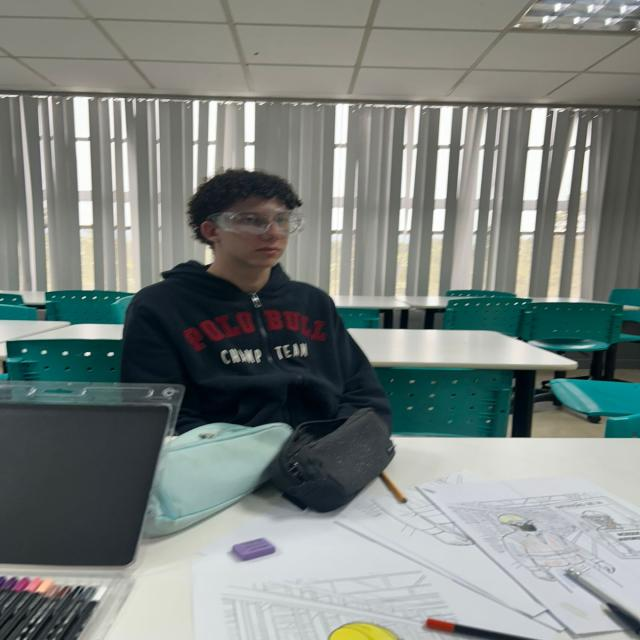oculos-epi: (207, 209, 308, 237)
